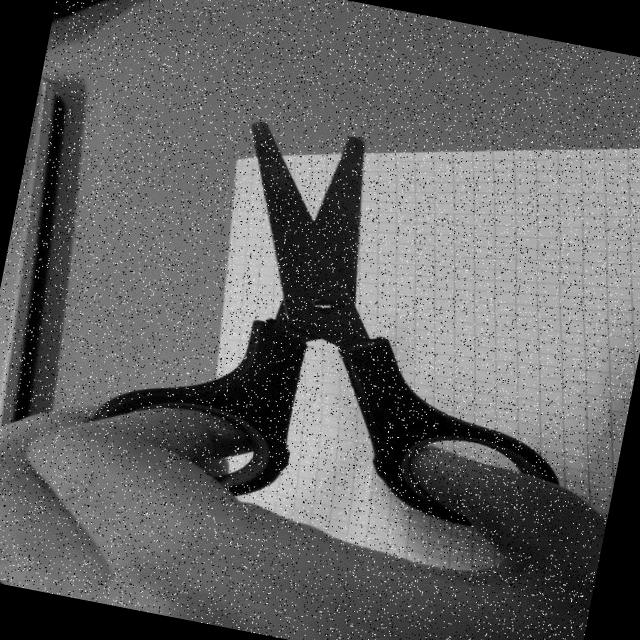scissors: (59, 88, 624, 568)
